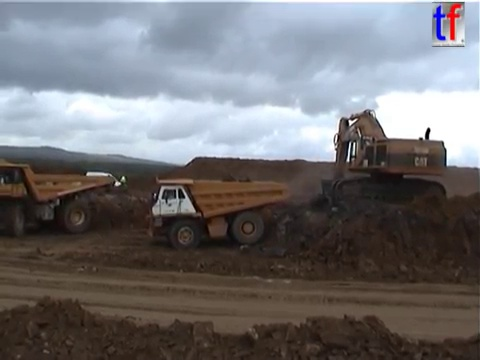excavator: (316, 106, 449, 211)
truck: (144, 174, 293, 251), (1, 159, 117, 237)
worker: (118, 173, 128, 192)
